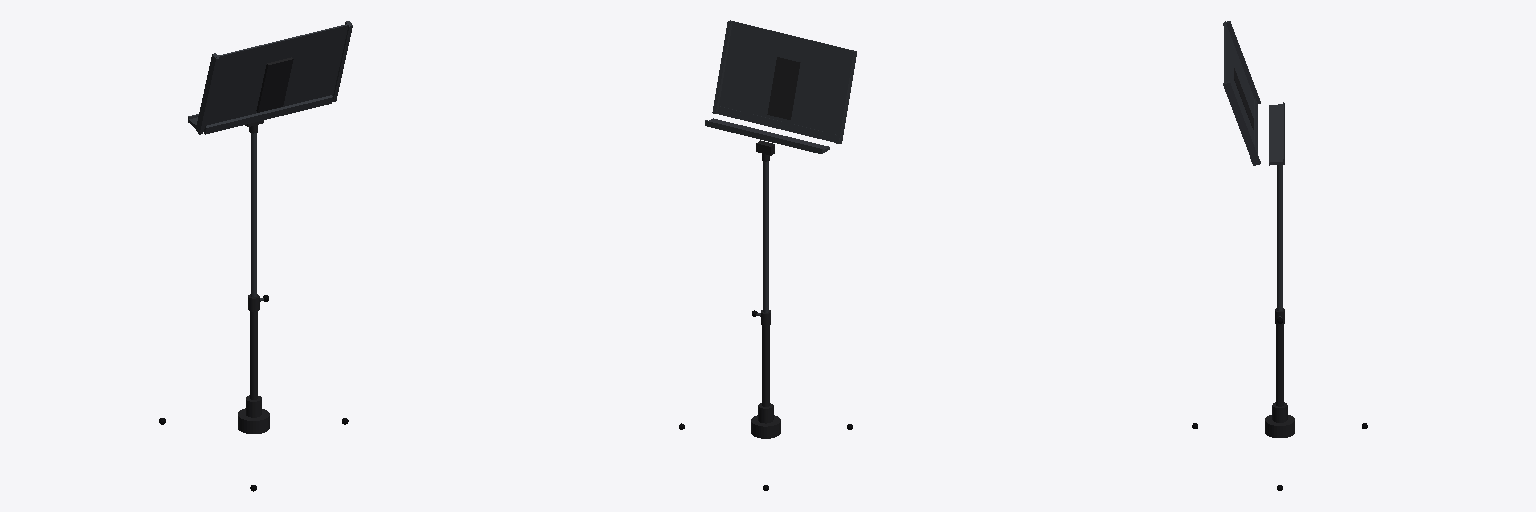
robot.urdf — orchestra_music_stand:
<robot name="orchestra_music_stand">
  <material name="powder_black">
    <color rgba="0.16 0.16 0.17 1" />
    </material>
  <material name="graphite">
    <color rgba="0.23 0.24 0.26 1" />
    </material>
  <material name="rubber">
    <color rgba="0.08 0.08 0.09 1" />
    </material>
  <link name="base">
    <inertial>
      <origin xyz="0 0 0.36" rpy="0 0 0" />
      <mass value="3.2" />
      <inertia ixx="0.292267" ixy="0" ixz="0" iyy="0.292267" iyz="0" izz="0.308053" />
      </inertial>
    <visual name="tripod_hub">
      <origin xyz="0 0 0.1" rpy="0 0 0" />
      <geometry>
        <cylinder radius="0.055" length="0.05" />
        </geometry>
      <material name="powder_black">
        <color rgba="0.16 0.16 0.17 1" />
        </material>
      </visual>
    <visual name="lower_collar">
      <origin xyz="0 0 0.155" rpy="0 0 0" />
      <geometry>
        <cylinder radius="0.028" length="0.06" />
        </geometry>
      <material name="powder_black">
        <color rgba="0.16 0.16 0.17 1" />
        </material>
      </visual>
    <visual name="outer_tube">
      <origin xyz="0 0 0.35" rpy="0 0 0" />
      <geometry>
        <cylinder radius="0.0145" length="0.34" />
        </geometry>
      <material name="powder_black">
        <color rgba="0.16 0.16 0.17 1" />
        </material>
      </visual>
    <visual name="top_socket">
      <origin xyz="0 0 0.545" rpy="0 0 0" />
      <geometry>
        <cylinder radius="0.02" length="0.05" />
        </geometry>
      <material name="powder_black">
        <color rgba="0.16 0.16 0.17 1" />
        </material>
      </visual>
    <visual name="clamp_stem">
      <origin xyz="0.03 0 0.55" rpy="0 1.5708 0" />
      <geometry>
        <cylinder radius="0.006" length="0.028" />
        </geometry>
      <material name="graphite">
        <color rgba="0.23 0.24 0.26 1" />
        </material>
      </visual>
    <visual name="clamp_knob">
      <origin xyz="0.048 0 0.55" rpy="0 0 0" />
      <geometry>
        <sphere radius="0.012" />
        </geometry>
      <material name="rubber">
        <color rgba="0.08 0.08 0.09 1" />
        </material>
      </visual>
    <visual name="leg_0">
      <geometry>
        <mesh filename="assets/meshes/music_stand_leg_0.obj" />
        </geometry>
      <material name="powder_black">
        <color rgba="0.16 0.16 0.17 1" />
        </material>
      </visual>
    <visual name="foot_0">
      <origin xyz="0.36 0 0.015" rpy="0 0 0" />
      <geometry>
        <sphere radius="0.012" />
        </geometry>
      <material name="rubber">
        <color rgba="0.08 0.08 0.09 1" />
        </material>
      </visual>
    <visual name="leg_1">
      <geometry>
        <mesh filename="assets/meshes/music_stand_leg_1.obj" />
        </geometry>
      <material name="powder_black">
        <color rgba="0.16 0.16 0.17 1" />
        </material>
      </visual>
    <visual name="foot_1">
      <origin xyz="-0.18 0.311769 0.015" rpy="0 0 0" />
      <geometry>
        <sphere radius="0.012" />
        </geometry>
      <material name="rubber">
        <color rgba="0.08 0.08 0.09 1" />
        </material>
      </visual>
    <visual name="leg_2">
      <geometry>
        <mesh filename="assets/meshes/music_stand_leg_2.obj" />
        </geometry>
      <material name="powder_black">
        <color rgba="0.16 0.16 0.17 1" />
        </material>
      </visual>
    <visual name="foot_2">
      <origin xyz="-0.18 -0.311769 0.015" rpy="0 0 0" />
      <geometry>
        <sphere radius="0.012" />
        </geometry>
      <material name="rubber">
        <color rgba="0.08 0.08 0.09 1" />
        </material>
      </visual>
    </link>
  <link name="upper_pole">
    <inertial>
      <origin xyz="0 0 0.155" rpy="0 0 0" />
      <mass value="1" />
      <inertia ixx="0.0920083" ixy="0" ixz="0" iyy="0.0920083" iyz="0" izz="0.000266667" />
      </inertial>
    <visual name="inner_tube">
      <origin xyz="0 0 0.14" rpy="0 0 0" />
      <geometry>
        <cylinder radius="0.0105" length="1.02" />
        </geometry>
      <material name="graphite">
        <color rgba="0.23 0.24 0.26 1" />
        </material>
      </visual>
    <visual name="top_cap">
      <origin xyz="0 0 0.665" rpy="0 0 0" />
      <geometry>
        <cylinder radius="0.015" length="0.03" />
        </geometry>
      <material name="powder_black">
        <color rgba="0.16 0.16 0.17 1" />
        </material>
      </visual>
    </link>
  <link name="desk">
    <inertial>
      <origin xyz="0 -0.09 0.205" rpy="0 0 0" />
      <mass value="1.4" />
      <inertia ixx="0.0272183" ixy="0" ixz="0" iyy="0.0581583" iyz="0" izz="0.0422333" />
      </inertial>
    <visual name="receiver_block">
      <origin xyz="0 0 0.018" rpy="0 0 0" />
      <geometry>
        <box size="0.064 0.03 0.036" />
        </geometry>
      <material name="powder_black">
        <color rgba="0.16 0.16 0.17 1" />
        </material>
      </visual>
    <visual name="support_arm">
      <geometry>
        <mesh filename="assets/meshes/music_stand_support_arm.obj" />
        </geometry>
      <material name="powder_black">
        <color rgba="0.16 0.16 0.17 1" />
        </material>
      </visual>
    <visual name="panel">
      <origin xyz="0 -0.145 0.23" rpy="0.33 0 0" />
      <geometry>
        <box size="0.54 0.006 0.35" />
        </geometry>
      <material name="graphite">
        <color rgba="0.23 0.24 0.26 1" />
        </material>
      </visual>
    <visual name="center_reinforcement">
      <origin xyz="0 -0.141 0.205" rpy="0.33 0 0" />
      <geometry>
        <box size="0.1 0.018 0.22" />
        </geometry>
      <material name="powder_black">
        <color rgba="0.16 0.16 0.17 1" />
        </material>
      </visual>
    <visual name="left_flange">
      <origin xyz="-0.263 -0.14 0.23" rpy="0.33 0 0" />
      <geometry>
        <box size="0.014 0.028 0.35" />
        </geometry>
      <material name="graphite">
        <color rgba="0.23 0.24 0.26 1" />
        </material>
      </visual>
    <visual name="right_flange">
      <origin xyz="0.263 -0.14 0.23" rpy="0.33 0 0" />
      <geometry>
        <box size="0.014 0.028 0.35" />
        </geometry>
      <material name="graphite">
        <color rgba="0.23 0.24 0.26 1" />
        </material>
      </visual>
    <visual name="lower_back_rail">
      <origin xyz="0 -0.096 0.076" rpy="0.33 0 0" />
      <geometry>
        <box size="0.5 0.022 0.03" />
        </geometry>
      <material name="graphite">
        <color rgba="0.23 0.24 0.26 1" />
        </material>
      </visual>
    <visual name="retaining_shelf">
      <origin xyz="0 -0.012 0.062" rpy="0.08 0 0" />
      <geometry>
        <box size="0.5 0.055 0.012" />
        </geometry>
      <material name="graphite">
        <color rgba="0.23 0.24 0.26 1" />
        </material>
      </visual>
    <visual name="retaining_fence">
      <origin xyz="0 0.014 0.068" rpy="0.08 0 0" />
      <geometry>
        <box size="0.5 0.006 0.022" />
        </geometry>
      <material name="graphite">
        <color rgba="0.23 0.24 0.26 1" />
        </material>
      </visual>
    </link>
  <joint name="base_to_upper_pole" type="prismatic">
    <origin xyz="0 0 0.54" rpy="0 0 0" />
    <parent link="base" />
    <child link="upper_pole" />
    <axis xyz="0 0 1" />
    <limit effort="60" velocity="0.15" lower="0" upper="0.3" />
    </joint>
  <joint name="upper_pole_to_desk" type="fixed">
    <origin xyz="0 0 0.68" rpy="0 0 0" />
    <parent link="upper_pole" />
    <child link="desk" />
    </joint>
  </robot>

--- What the picture shows (computed from the rendered views, not written in the file) ---
The picture shows the robot from 3 angles, left to right: view 1: azimuth 30°, elevation 25°; view 2: azimuth 150°, elevation 25°; view 3: azimuth 270°, elevation 25°; orthographic projection.
Robot: orchestra_music_stand — 3 links, 2 joints (1 prismatic, 1 fixed); root link base; default pose: all joints at 0.
Visible links, largest first — view 1: desk, base, upper_pole; view 2: desk, base, upper_pole; view 3: desk, base, upper_pole.
Boxes of the visible links, box(x1,y1,x2,y2) form: desk: box(188, 21, 352, 134); base: box(159, 294, 348, 491); upper_pole: box(249, 125, 257, 296); desk: box(705, 20, 856, 155); base: box(679, 310, 852, 490); upper_pole: box(762, 154, 769, 312); desk: box(1223, 21, 1284, 165); base: box(1192, 308, 1367, 490); upper_pole: box(1277, 165, 1282, 310).
Bounding box of the posed robot: 0.642 × 0.6475 × 1.62 m (x, y, z).
Meshes: 4 distinct files referenced, 0 mesh visuals loaded (none loaded); not drawn: 4 (reference not matched to a file when rendering).
